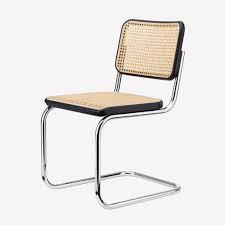chair: (22, 17, 186, 205)
